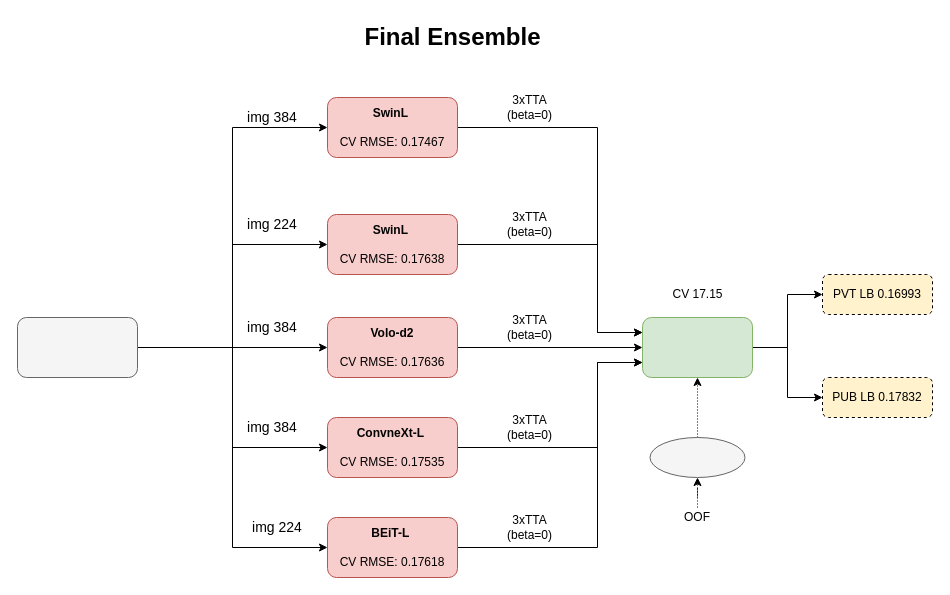
Some shapes in this 950 by 595 pixel diagram are drawn without their labels. The shapes that lost their labels are listed below. From the top down, each one's centre as x and y in pixels, then its label:
[77,347]: Train data (9985 images)
[697,347]: Weighted Ensemble
[697,457]: Ridge
